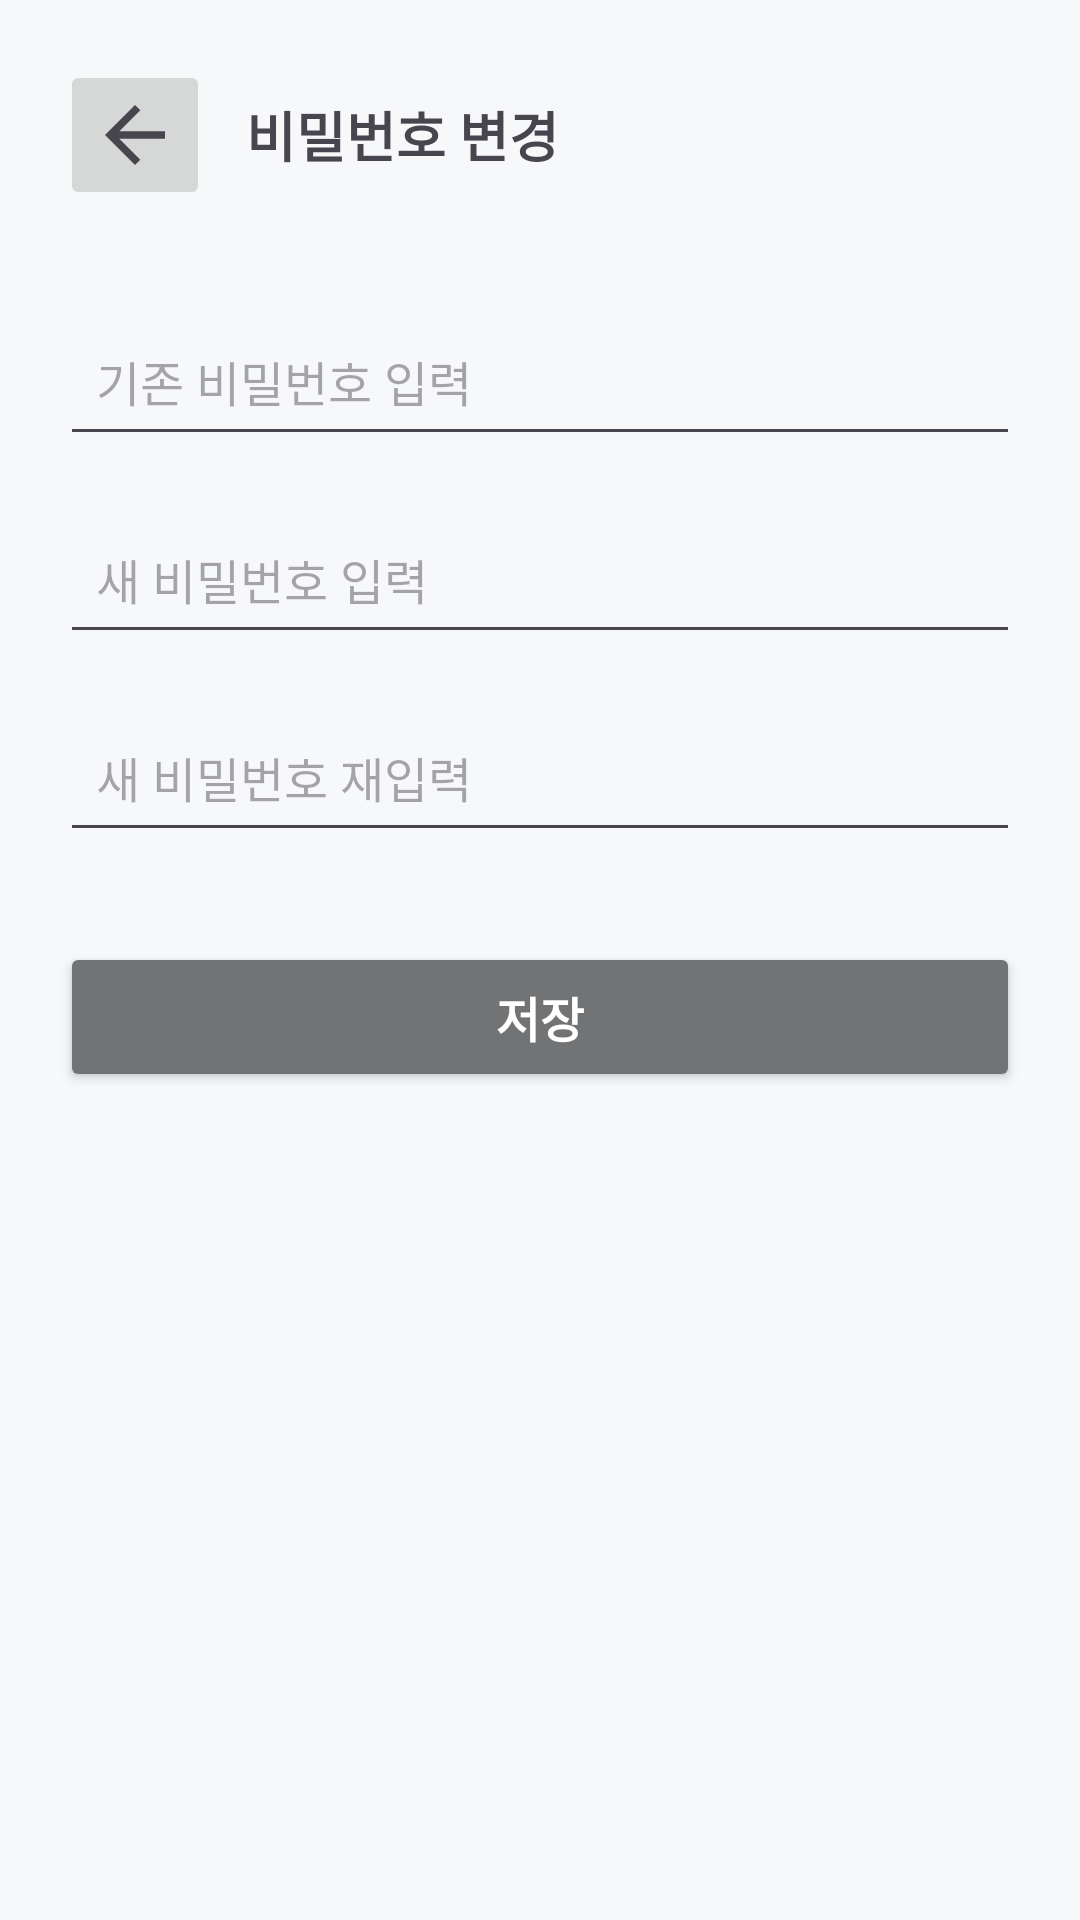

Screen size 1080 × 1920. Icon name, then its center in pixels as [x,y]:
Back: [135,135]
